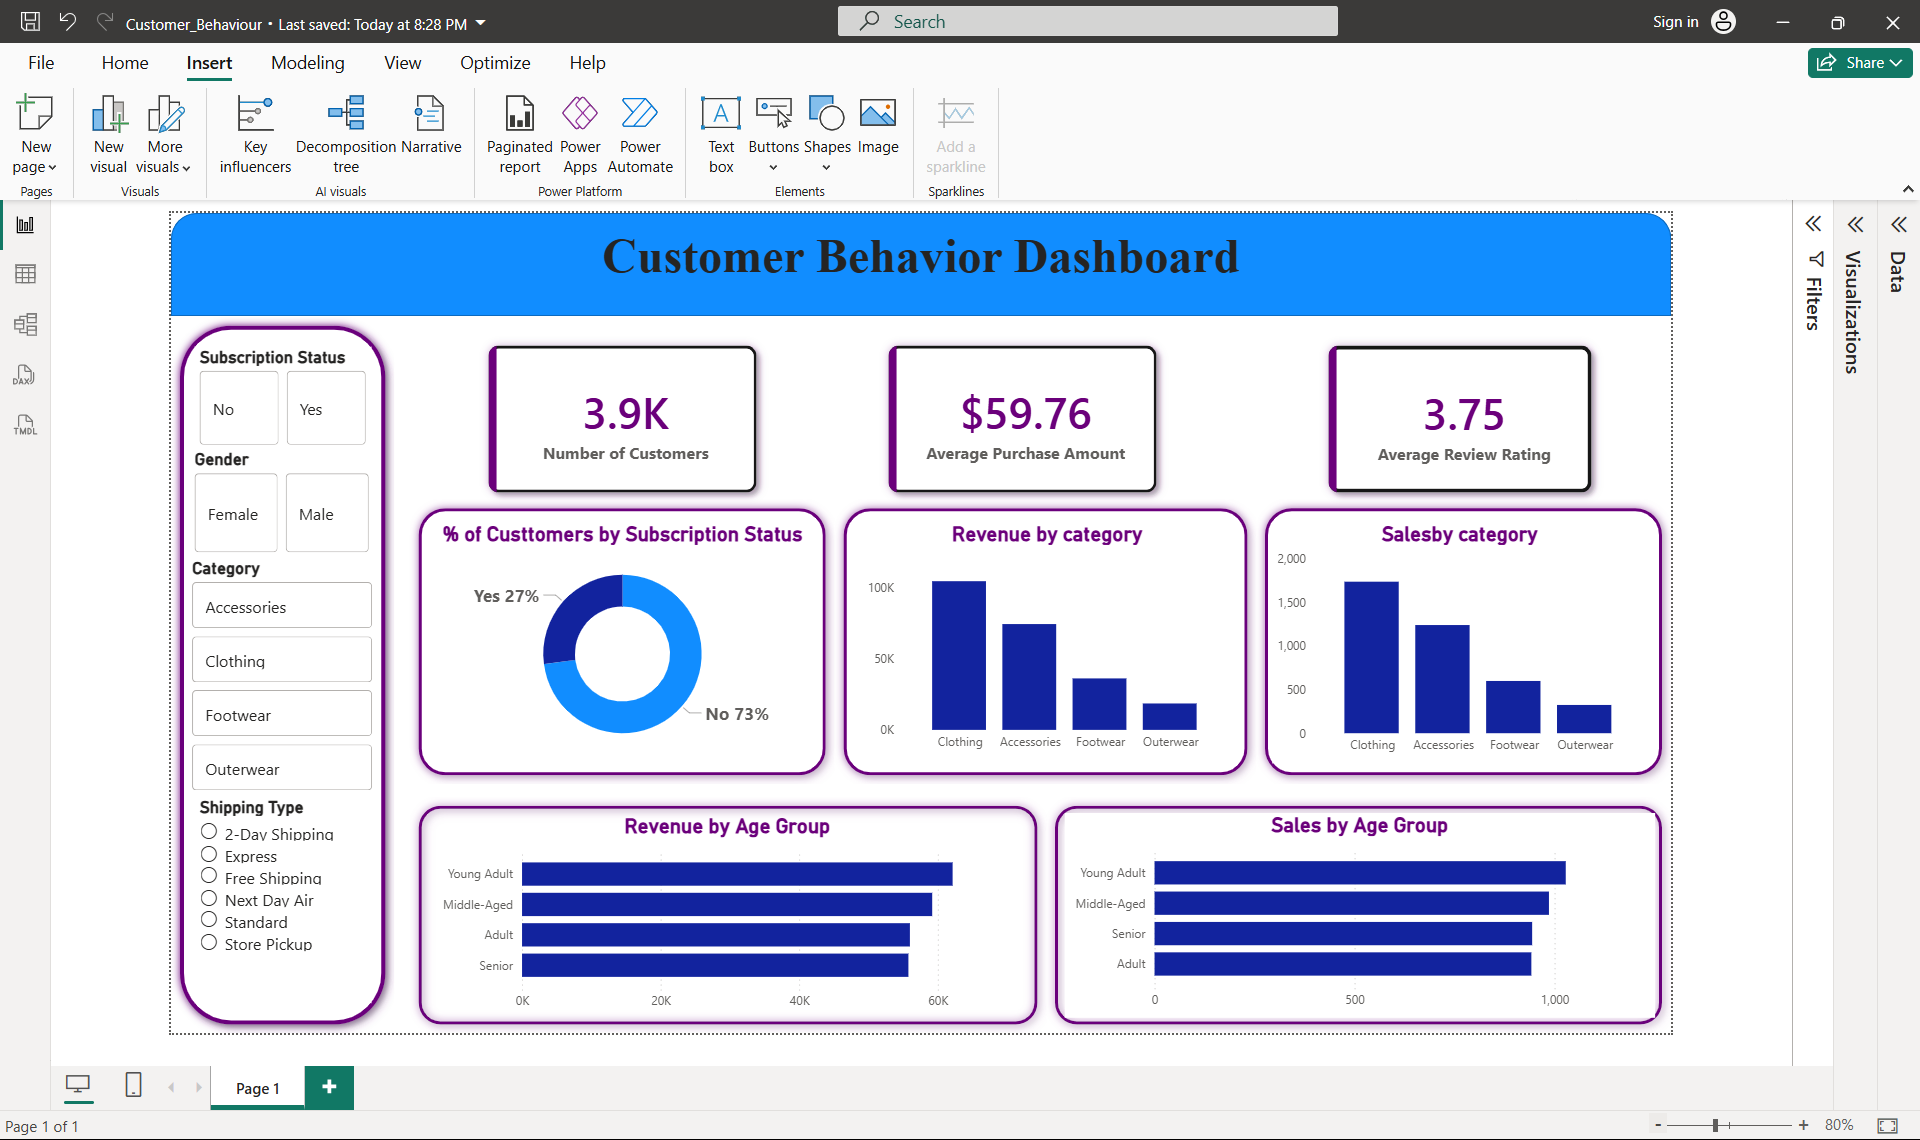

The dashboard page shown, as its layout file describes it:
{"tool":"powerbi","page":{"name":"Page 1","canvas":[1500,820],"ordinal":0},"visuals":[{"type":"cardVisual","fields":{"Data":["public customer.Number of Customers"]},"box":[288.3,103.3,326.7,205],"z":0},{"type":"cardVisual","fields":{"Data":["public customer.Average Purchase Amount"]},"box":[688.3,103.3,326.7,205],"z":1000},{"type":"cardVisual","fields":{"Data":["public customer.Average Review Rating"]},"box":[1128.3,103.3,321.7,205],"z":2000},{"type":"shape","box":[0,0,1500.3,102.9],"z":3000},{"type":"textbox","box":[0,11.3,1500.3,80.4],"z":4000},{"type":"shape","box":[238.3,286.7,425,285],"z":5000},{"type":"donutChart","title":"% of Custtomers by Subscription Status","fields":{"Category":["public customer.subscription_status"],"Y":["CountNonNull(public customer.customer_id)"]},"box":[265,308.3,373.3,241.7],"z":6000},{"type":"shape","box":[663.3,286.7,421.7,285],"z":7000},{"type":"shape","box":[1085,286.7,415,285],"z":8000},{"type":"clusteredColumnChart","title":"Revenue by category","fields":{"Y":["Sum(public customer.purchase_amount)"],"Category":["public customer.category"]},"box":[691.7,308.3,370,238.3],"z":9000},{"type":"clusteredColumnChart","title":"Salesby category","fields":{"Y":["CountNonNull(public customer.customer_id)"],"Category":["public customer.category"]},"box":[1101.7,308.3,375,241.7],"z":10000},{"type":"shape","box":[0,103.3,223.3,716.7],"z":11000},{"type":"advancedSlicerVisual","title":"Subscription Status","fields":{"Values":["public customer.subscription_status"]},"box":[23.3,133.3,176.7,103.3],"z":12000},{"type":"advancedSlicerVisual","title":"Gender","fields":{"Values":["public customer.gender"]},"box":[18.3,236.7,185,108.3],"z":13000},{"type":"advancedSlicerVisual","title":"Category","fields":{"Values":["public customer.category"]},"box":[16.7,345,190,238.3],"z":14000},{"type":"listSlicer","title":"Shipping Type","fields":{"Values":["public customer.shipping_type"]},"box":[23.3,583.3,176.7,206.7],"z":15000},{"type":"clusteredBarChart","title":"Revenue by Age Group","fields":{"Y":["Sum(public customer.purchase_amount)"],"Category":["public customer.age_group"]},"box":[261.7,601.7,590,205],"z":16000},{"type":"shape","box":[875,583.3,625,236.7],"z":17000},{"type":"shape","box":[238.3,583.3,636.7,236.7],"z":18000},{"type":"clusteredBarChart","title":"Sales by Age Group","fields":{"Y":["CountNonNull(public customer.customer_id)"],"Category":["public customer.age_group"]},"box":[893.3,600,590,205],"z":18001}]}

Visuals, with their boxes on the page's 1500x820 design canvas (x1, y1, x2, y2). These are canvas units, not pixel positions in the 1920x1140 screenshot, which may show the page scaled, cropped or inside an application window:
cardVisual - public customer.Number of Customers: select_region(288, 103, 615, 308)
cardVisual - public customer.Average Purchase Amount: select_region(688, 103, 1015, 308)
cardVisual - public customer.Average Review Rating: select_region(1128, 103, 1450, 308)
shape: select_region(0, 0, 1500, 103)
textbox: select_region(0, 11, 1500, 92)
shape: select_region(238, 287, 663, 572)
"% of Custtomers by Subscription Status" donutChart: select_region(265, 308, 638, 550)
shape: select_region(663, 287, 1085, 572)
shape: select_region(1085, 287, 1500, 572)
"Revenue by category" clusteredColumnChart: select_region(692, 308, 1062, 547)
"Salesby category" clusteredColumnChart: select_region(1102, 308, 1477, 550)
shape: select_region(0, 103, 223, 820)
"Subscription Status" advancedSlicerVisual: select_region(23, 133, 200, 237)
"Gender" advancedSlicerVisual: select_region(18, 237, 203, 345)
"Category" advancedSlicerVisual: select_region(17, 345, 207, 583)
"Shipping Type" listSlicer: select_region(23, 583, 200, 790)
"Revenue by Age Group" clusteredBarChart: select_region(262, 602, 852, 807)
shape: select_region(875, 583, 1500, 820)
shape: select_region(238, 583, 875, 820)
"Sales by Age Group" clusteredBarChart: select_region(893, 600, 1483, 805)
